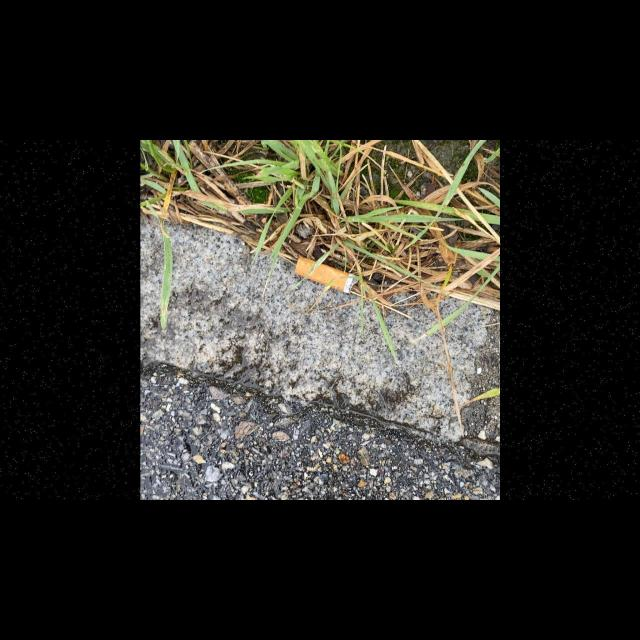cigarette: (294, 256, 358, 294)
